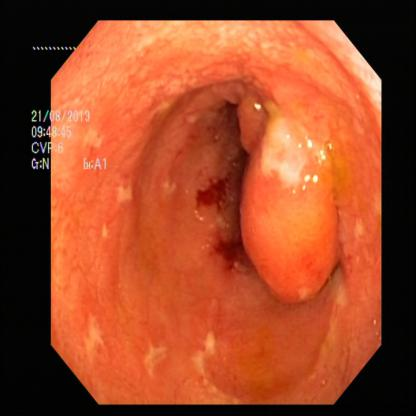Labels: (29, 104, 123, 186)
Polyps: (230, 92, 350, 307)
